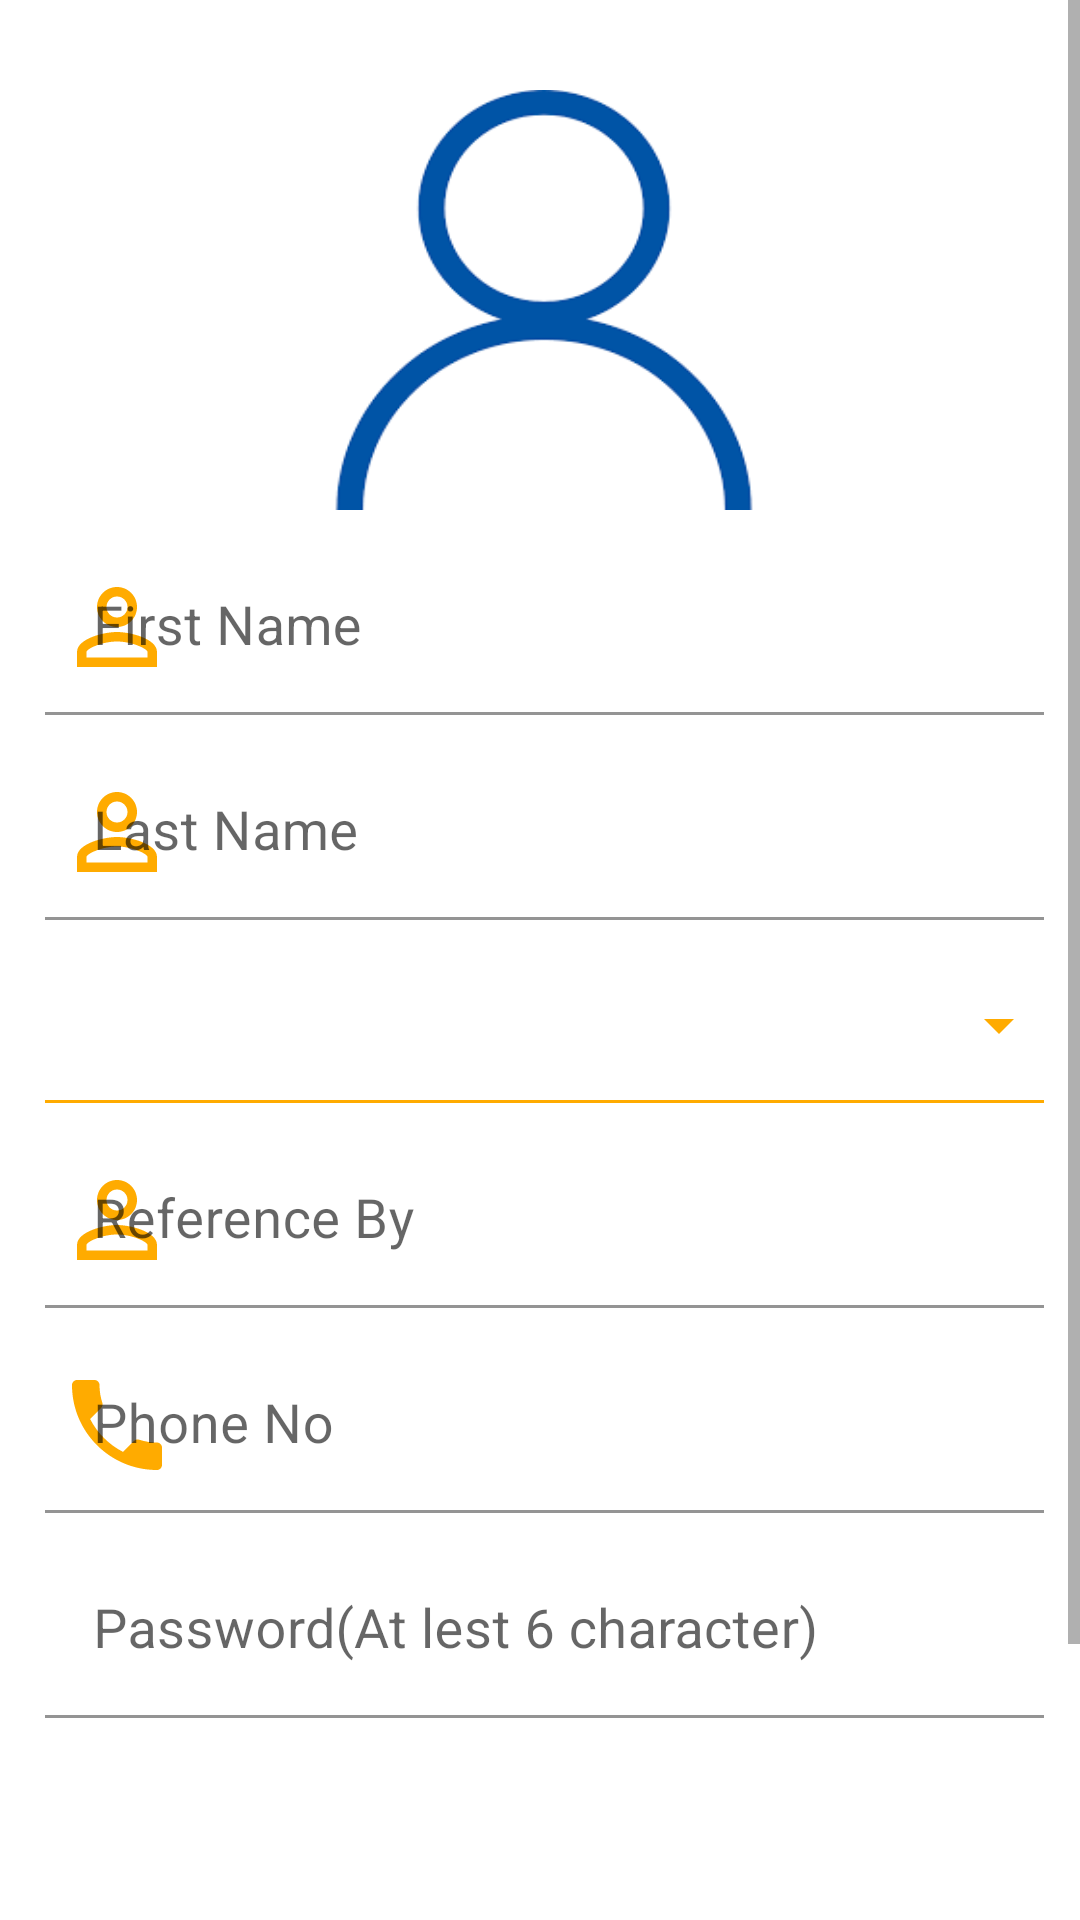

Icons on this 1080px x 1920px Android screen, each with the point to tap as [x,y]:
arrow drop down: [999,1026]
